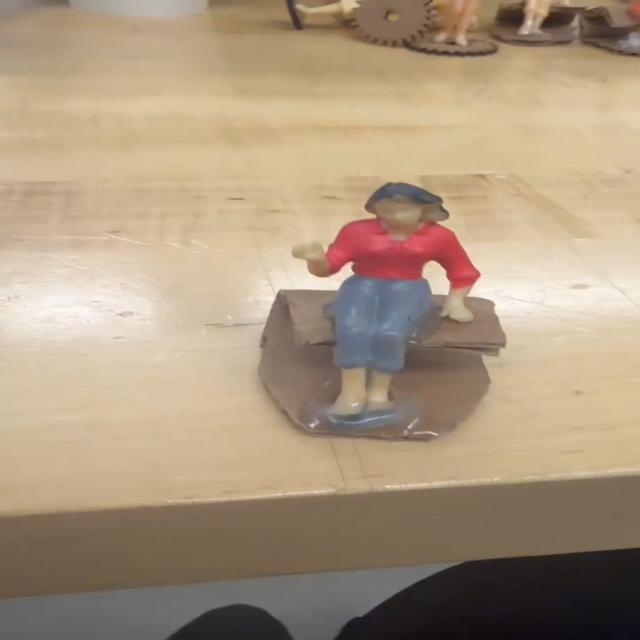Authorized: (271, 166, 480, 446)
